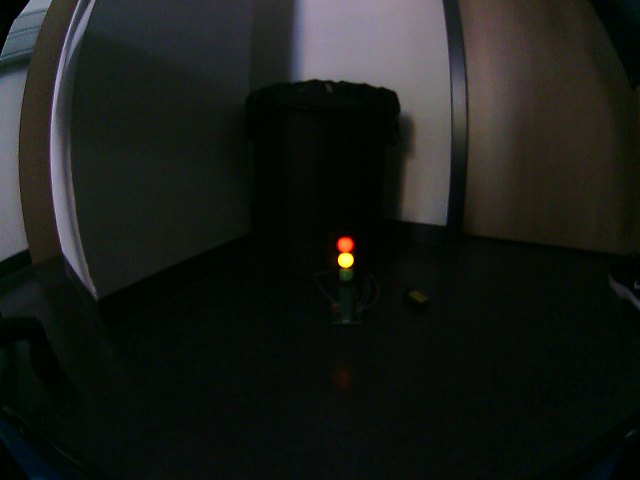red yellow trafficlight: (334, 236, 356, 285)
